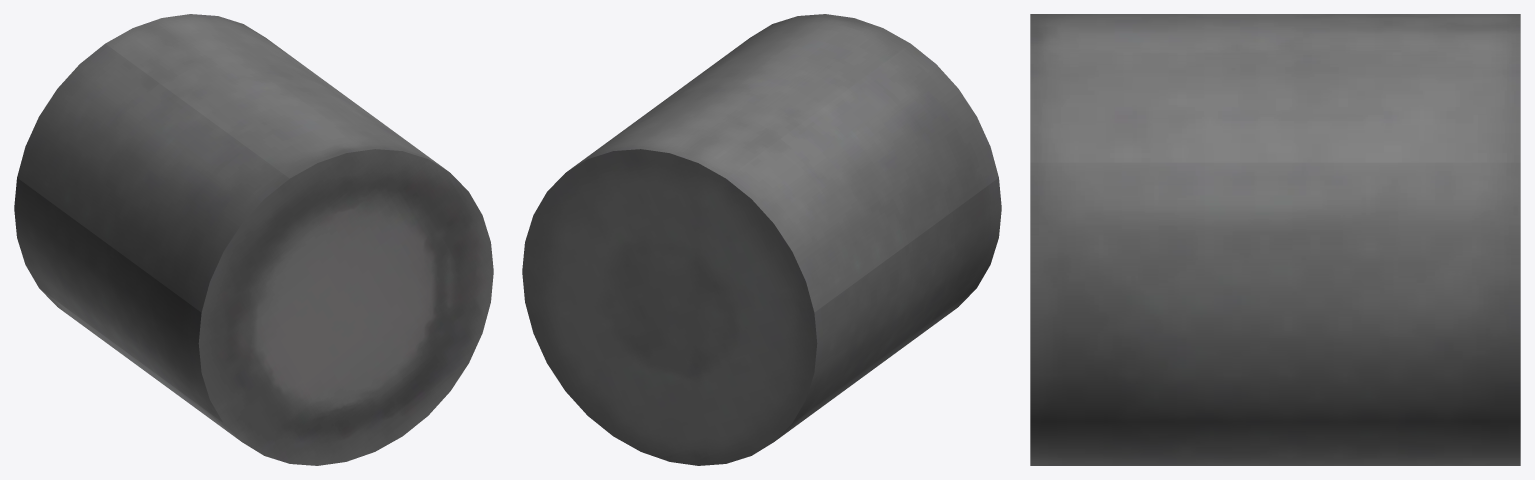
Rendered from stand__top_socket.glb.
3 renders of one model, left to right at view 1: azimuth 30°, elevation 25°; view 2: azimuth 150°, elevation 25°; view 3: azimuth 270°, elevation 25°, orthographic. The views are drawn at different scales.
Visible parts, largest first — view 1: geometry_0; view 2: geometry_0; view 3: geometry_0.
Part boxes in pixels (x1,y1,x2,y2): geometry_0: (14, 14, 493, 465); geometry_0: (522, 14, 1001, 465); geometry_0: (1030, 14, 1520, 465).
Bounding box in the file's own units: 0.06 × 0.06 × 0.065.
Materials: 1 (1 with a texture image).
